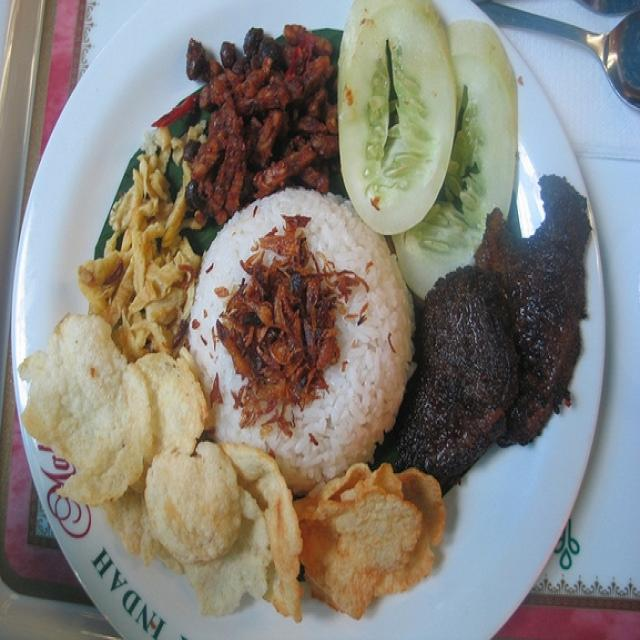米饭主食: (30, 13, 598, 618)
